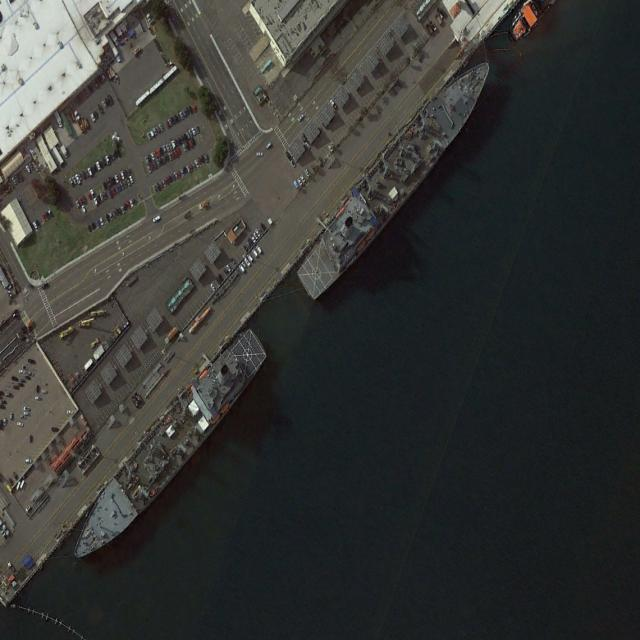Commander: (291, 41, 506, 311), (62, 320, 273, 578)
